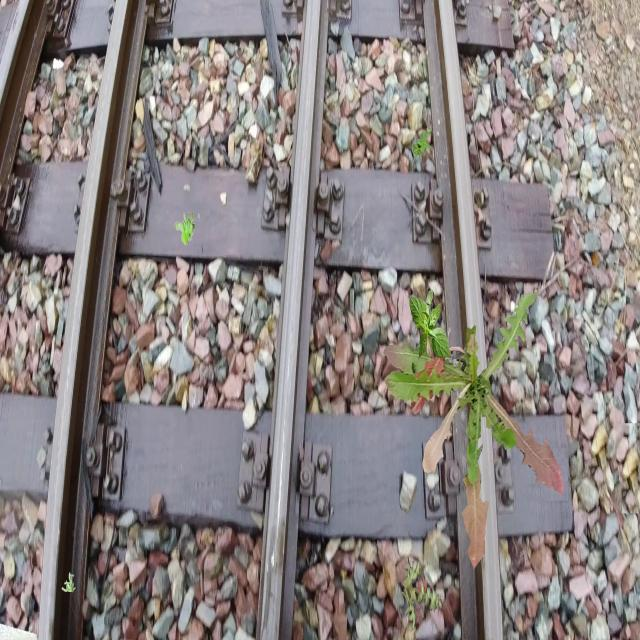Plant: (384, 292, 564, 570), (409, 290, 451, 361), (401, 560, 442, 632), (412, 127, 432, 160), (174, 212, 194, 245), (62, 572, 76, 592)
